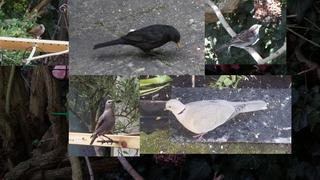blackbird: (93, 24, 181, 58)
collared dove: (164, 99, 267, 141)
dunnock: (23, 24, 45, 39)
sparrow: (215, 24, 262, 52)
starling: (90, 99, 116, 146)
